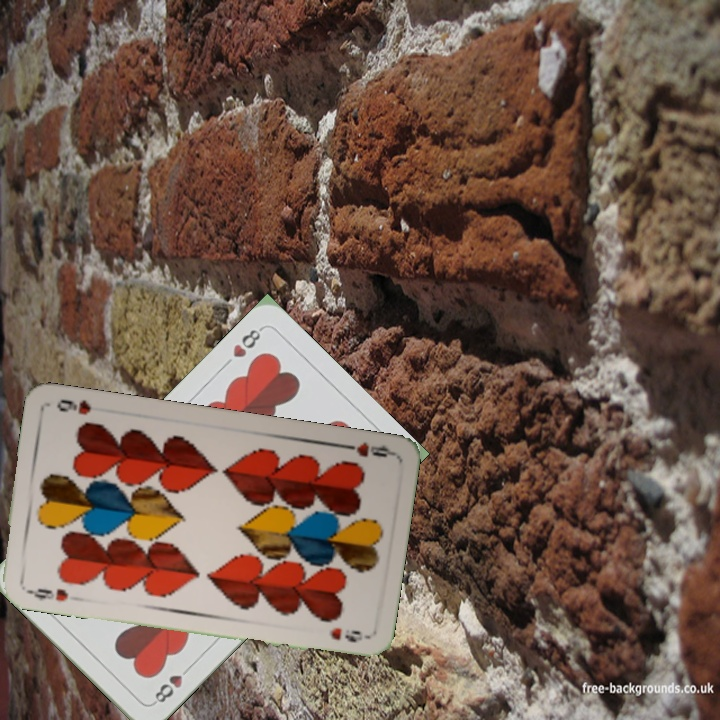H8: (149, 661, 195, 707), (228, 323, 265, 360)
H9: (336, 437, 395, 460), (21, 581, 71, 604)
